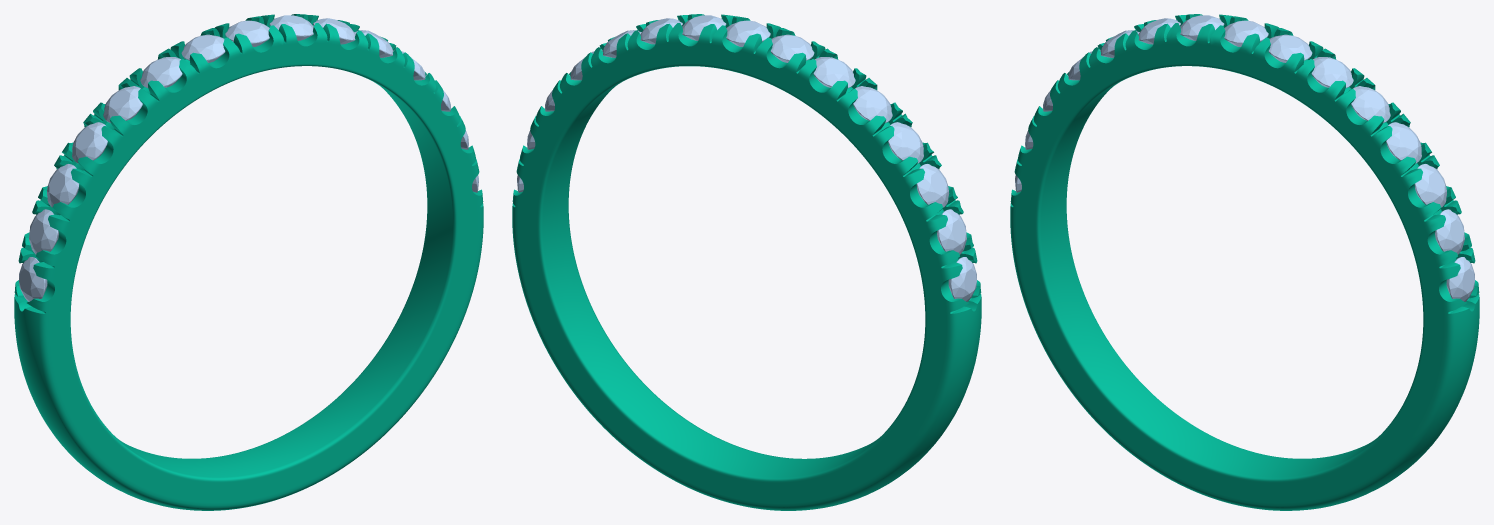
The picture shows the model from 3 angles, left to right: view 1: azimuth 30°, elevation 25°; view 2: azimuth 150°, elevation 25°; view 3: azimuth 330°, elevation 25°; orthographic projection.
Visible parts, largest first — view 1: Band 1 1.8mm.3dm, Diamond_Round (×9); view 2: Band 1 1.8mm.3dm, Diamond_Round (×9); view 3: Band 1 1.8mm.3dm, Diamond_Round (×9).
Boxes of the visible parts, bbox=[...] form: Band 1 1.8mm.3dm: bbox=[14, 14, 483, 510]; Diamond_Round (×9): bbox=[19, 15, 313, 301]; Band 1 1.8mm.3dm: bbox=[512, 14, 981, 510]; Diamond_Round (×9): bbox=[682, 15, 976, 301]; Band 1 1.8mm.3dm: bbox=[1010, 14, 1479, 510]; Diamond_Round (×9): bbox=[1180, 15, 1474, 301].
Size of the model in its own units: 2.82 by 2.82 by 0.3109.
